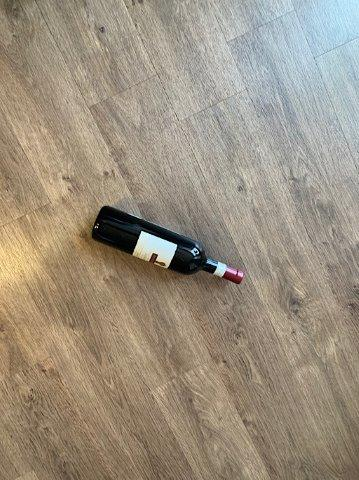botolkaca: (93, 206, 244, 286)
